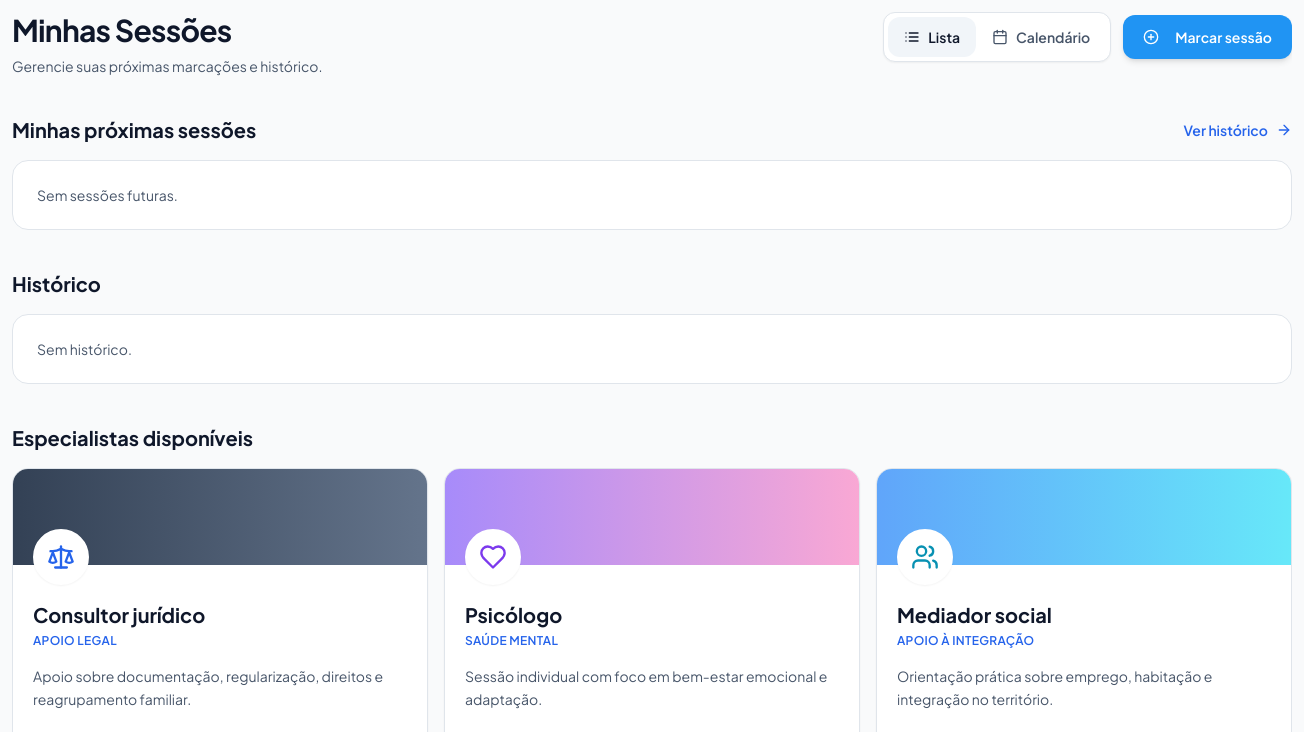
Test: SessionsPage - UI/Interações (referência) › permite alternar para o modo calendário
Click the button "Calendário" at (1041, 37), box [976, 17, 1106, 57]
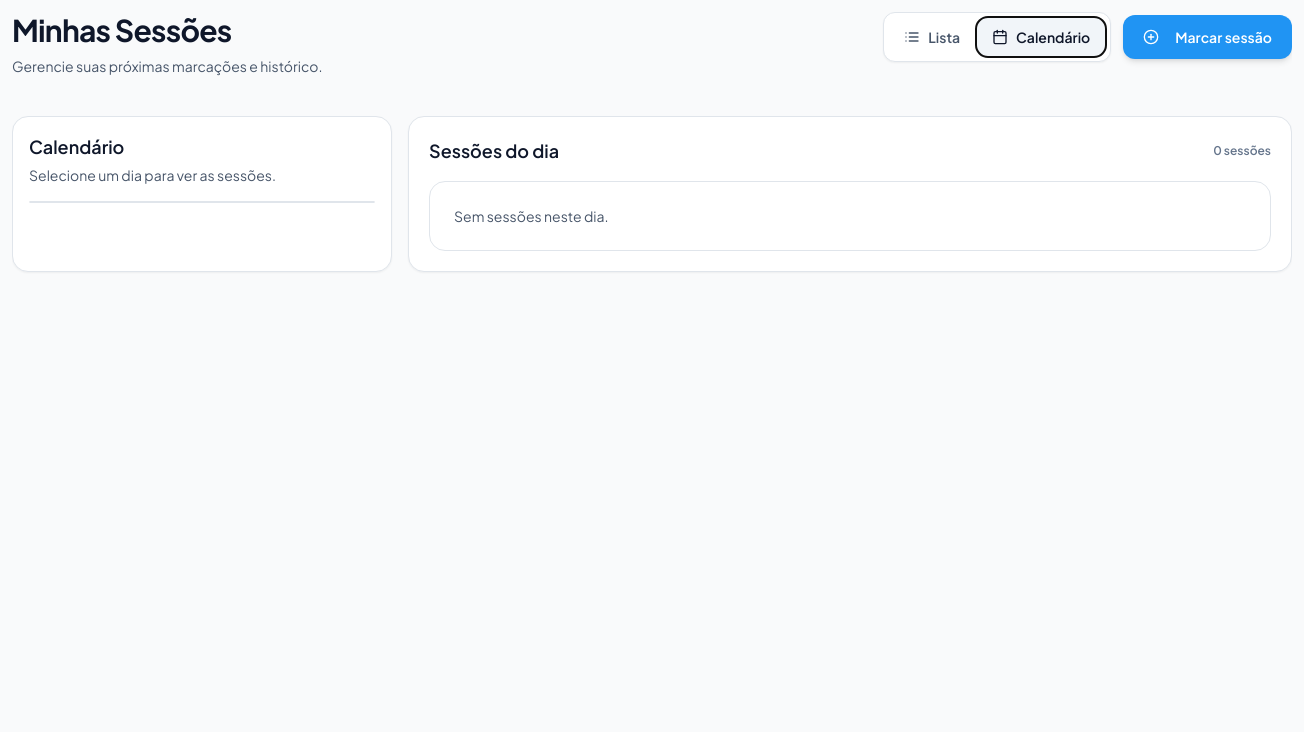
expect the heading "Sessões do dia" is shown: met, box [429, 137, 559, 165]
